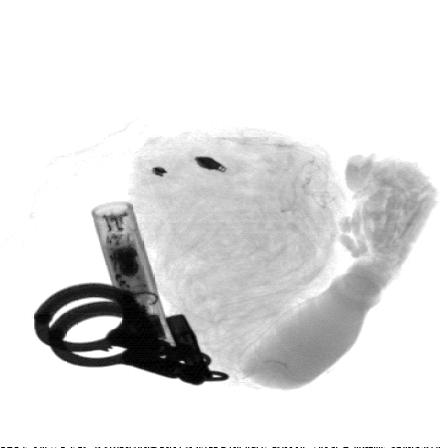Baton: (91, 202, 179, 357)
HandCuffs: (31, 282, 229, 385)
Lighter: (166, 314, 214, 382)
